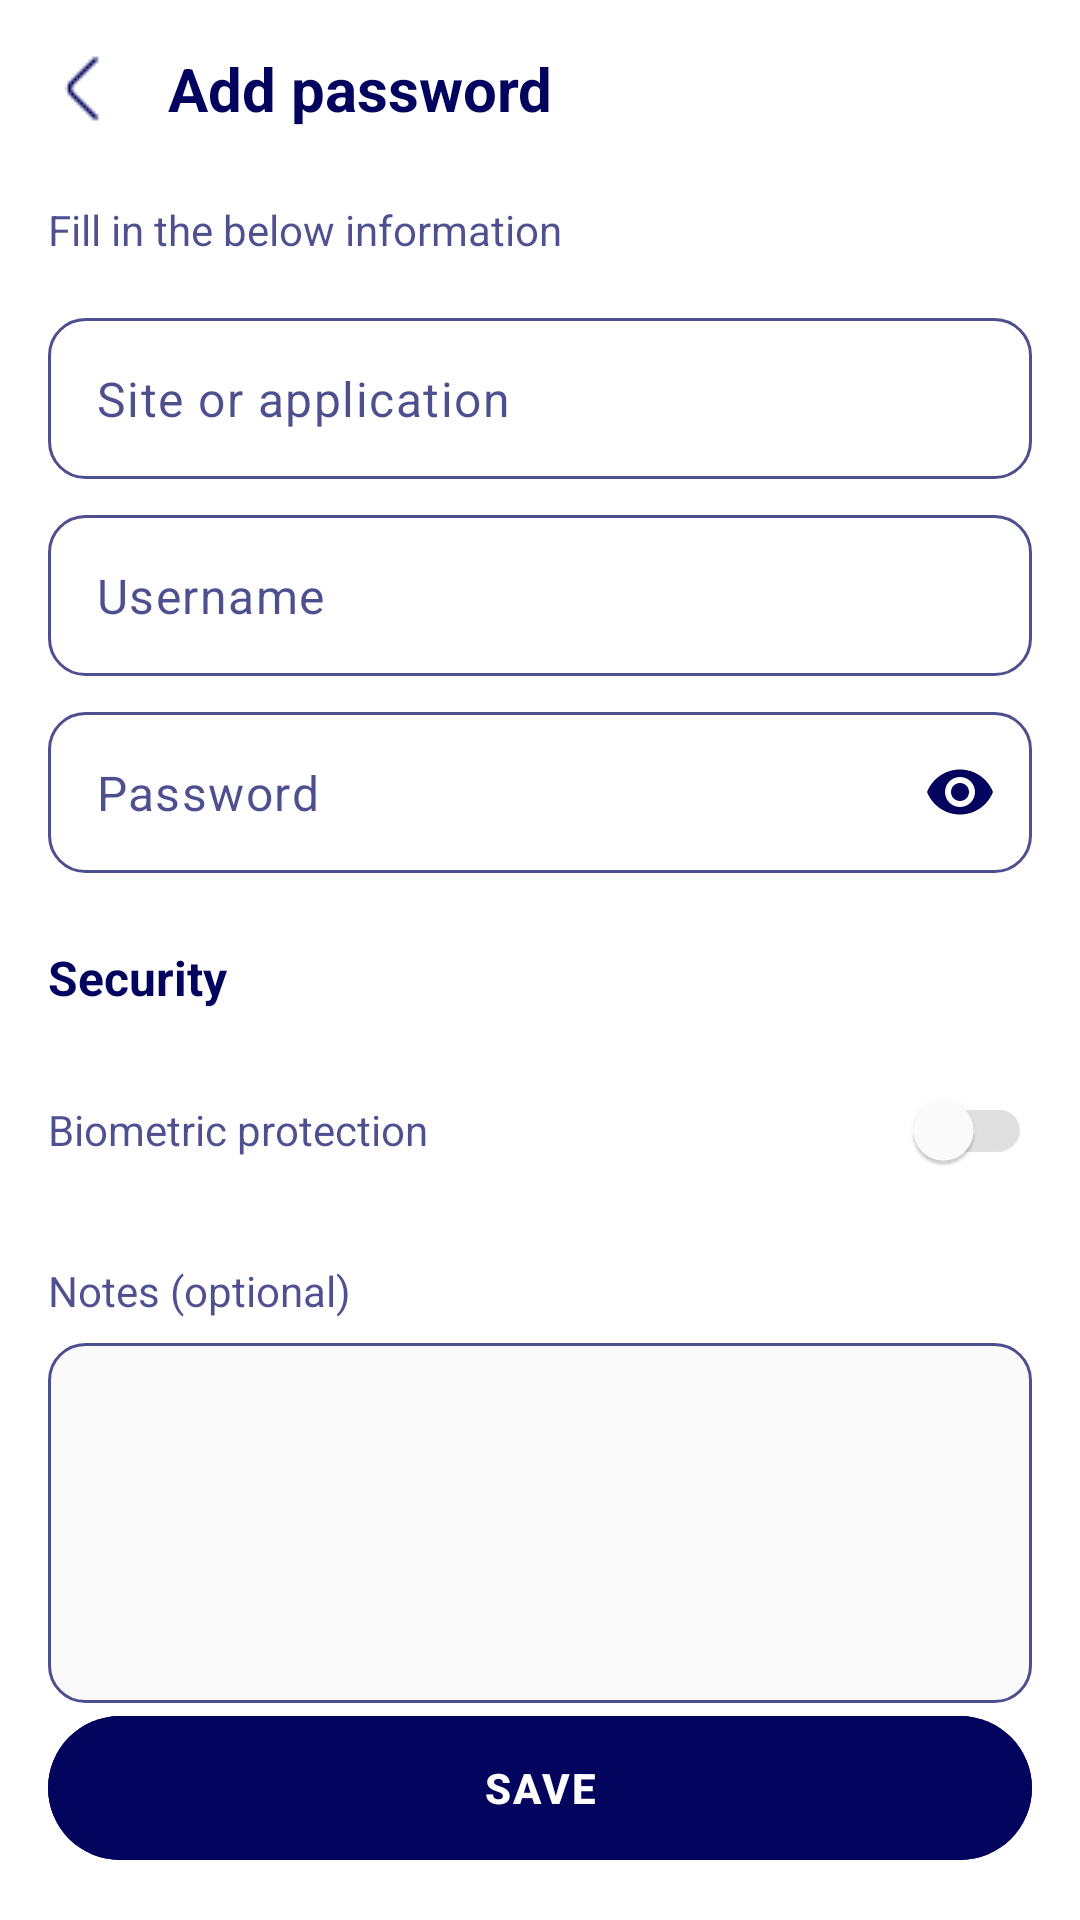

Point at icon controls on the screen. Image size 1080px×1920px, points as (x=x, y=y).
Back: (x=82, y=88)
